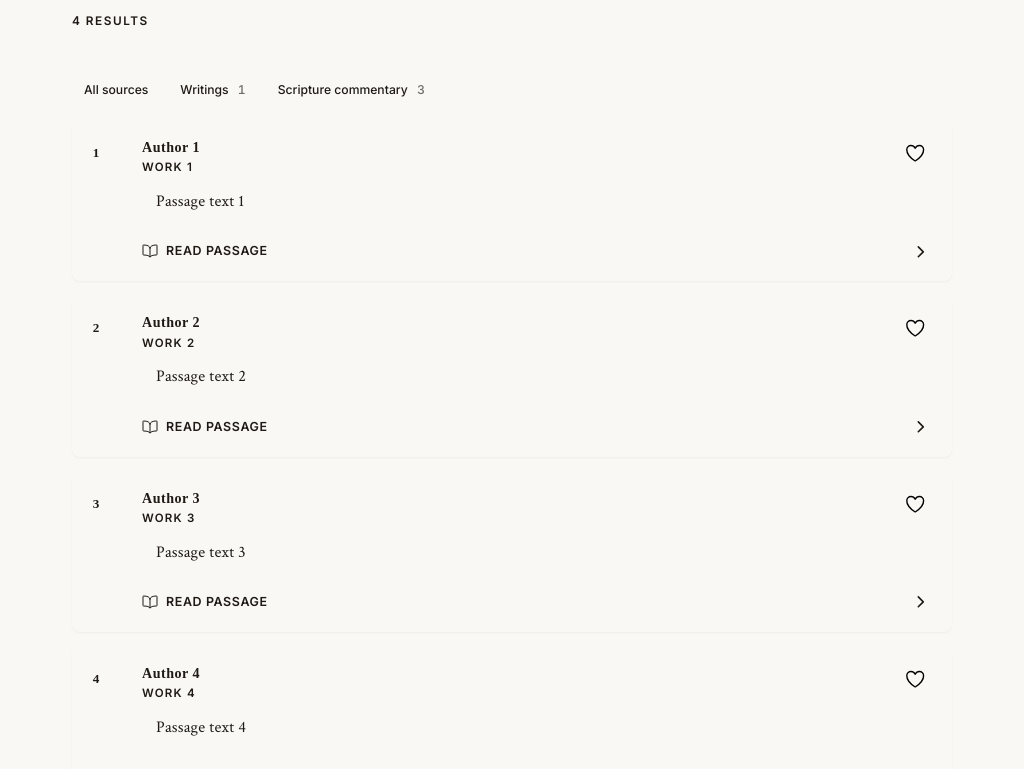
it: SearchResults source-kind filter › narrows the list to writings when asked
What coordinates should you click on to do the following:
click the button "Writings 1"
I would click on:
 (213, 89)
Its box is [168,77,258,102].
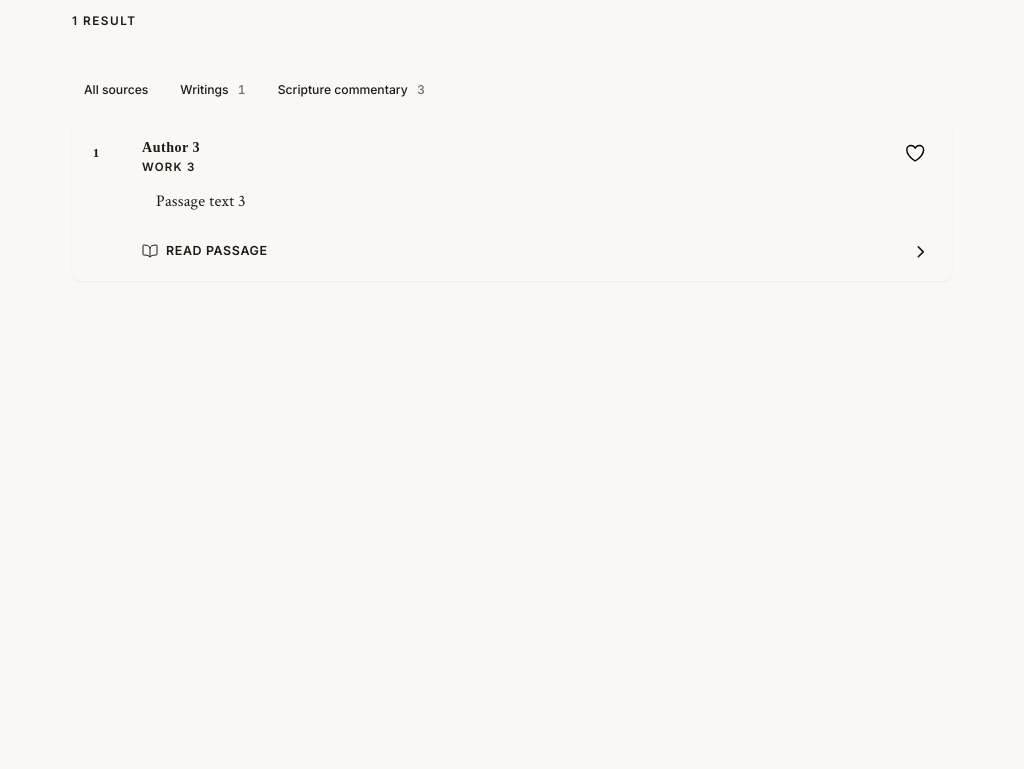
Expected: the text "Passage text 3" is shown, [156,191,246,212]
Result: the link "Passage text 1" is gone
